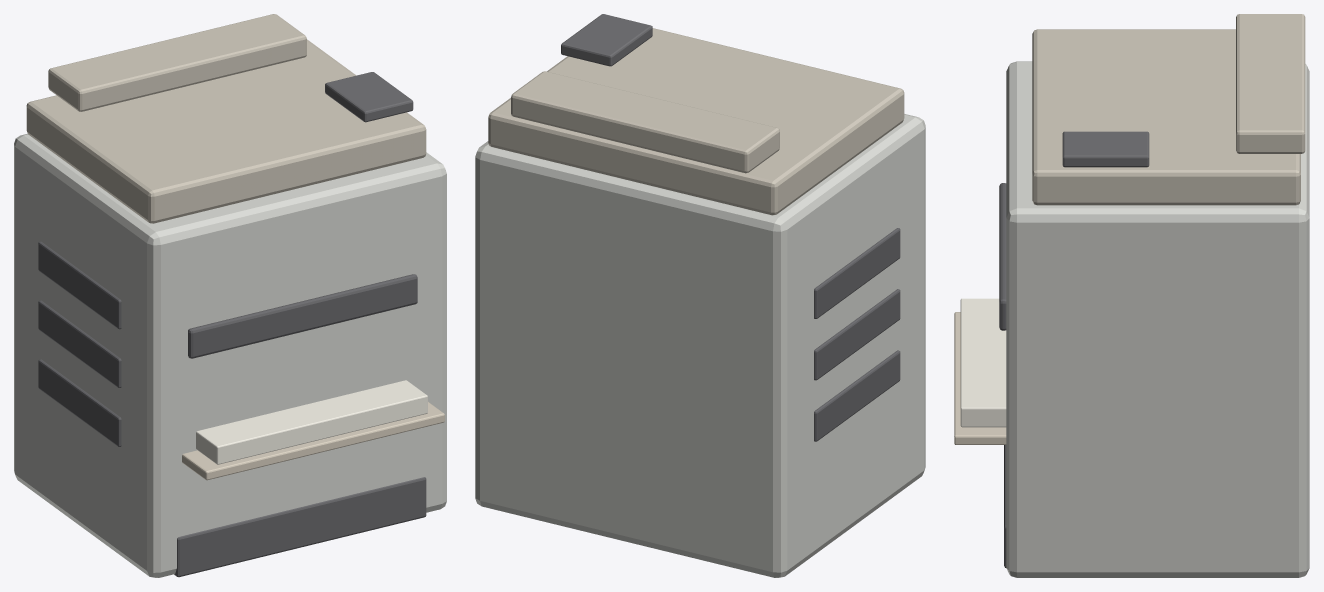
File: copier.glb
3 views of the same model, side by side, from view 1: azimuth 30°, elevation 25°; view 2: azimuth 150°, elevation 25°; view 3: azimuth 270°, elevation 25° (orthographic). The views are drawn at different scales.
Parts seen in each view (by area): view 1: furn_copier; view 2: furn_copier; view 3: furn_copier.
Part boxes in pixels (left/top/right/bottom): furn_copier: left=14, top=14, right=446, bottom=577; furn_copier: left=475, top=14, right=925, bottom=577; furn_copier: left=954, top=14, right=1309, bottom=577.
Size of the model in its own units: 0.858 by 1.1 by 0.82.
